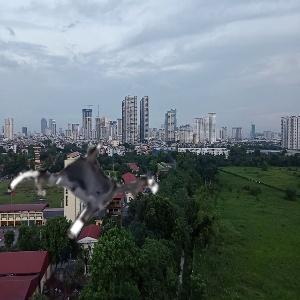drone: (13, 114, 159, 260)
